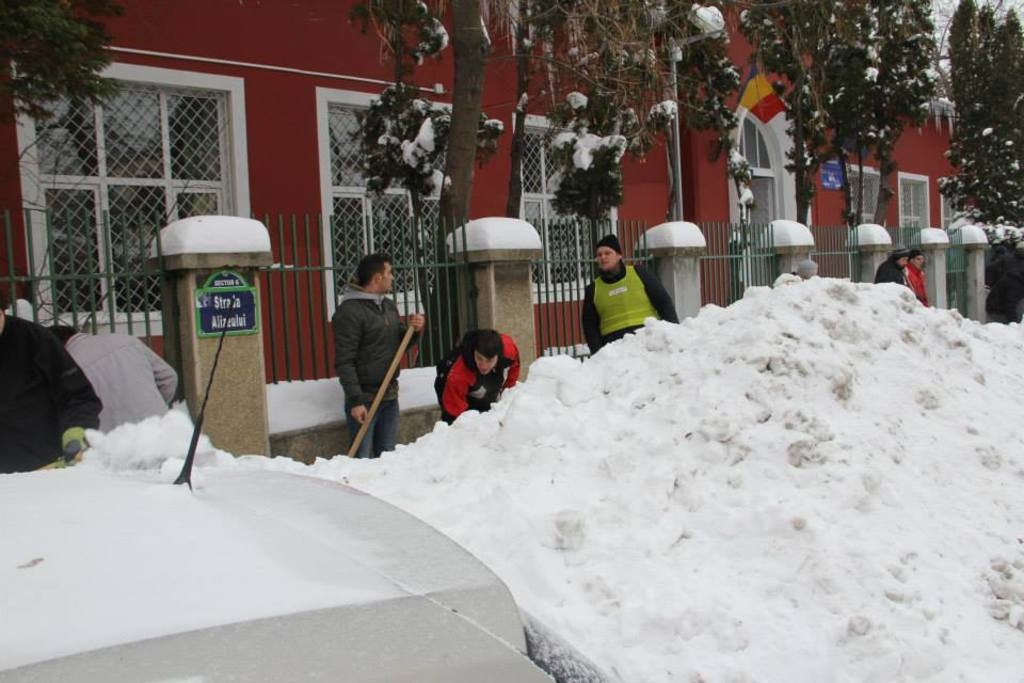Tree: (339, 0, 748, 372), (734, 0, 955, 242), (0, 0, 136, 129), (946, 3, 1022, 219)
